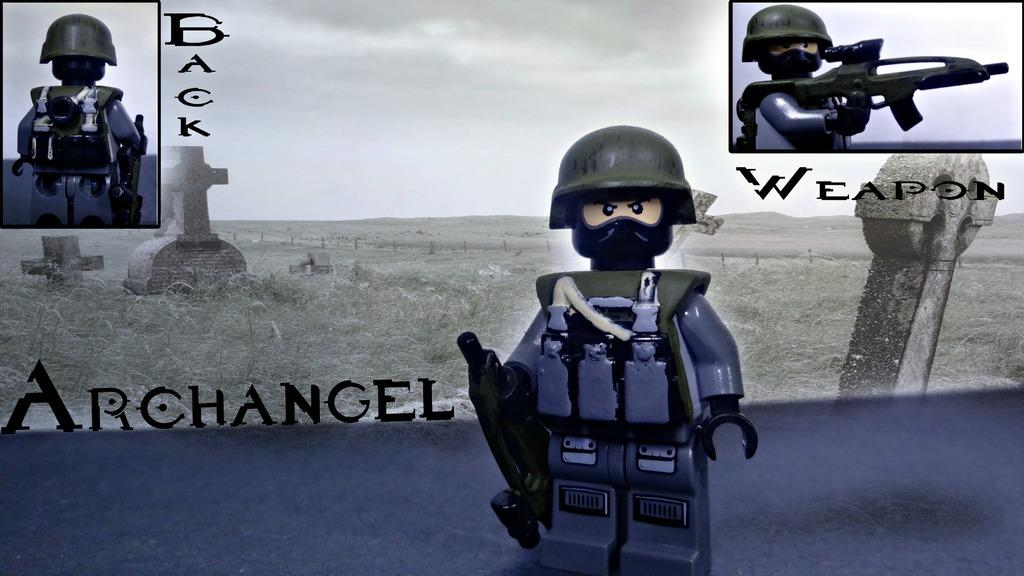Rifle: (733, 34, 1011, 150), (454, 328, 550, 548), (111, 102, 151, 228)
